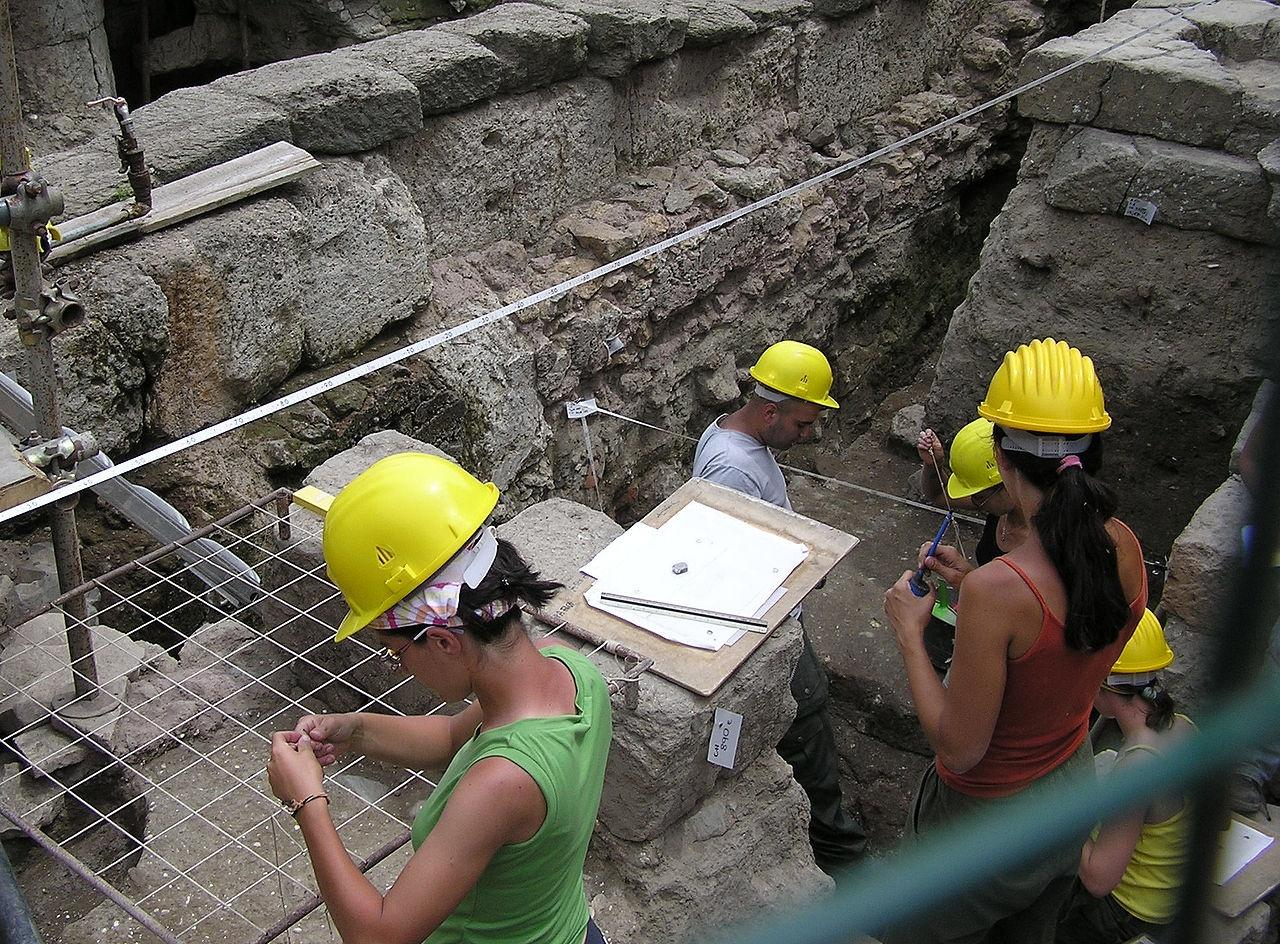Helmet: (320, 453, 521, 684), (990, 339, 1109, 502), (755, 339, 838, 449)
